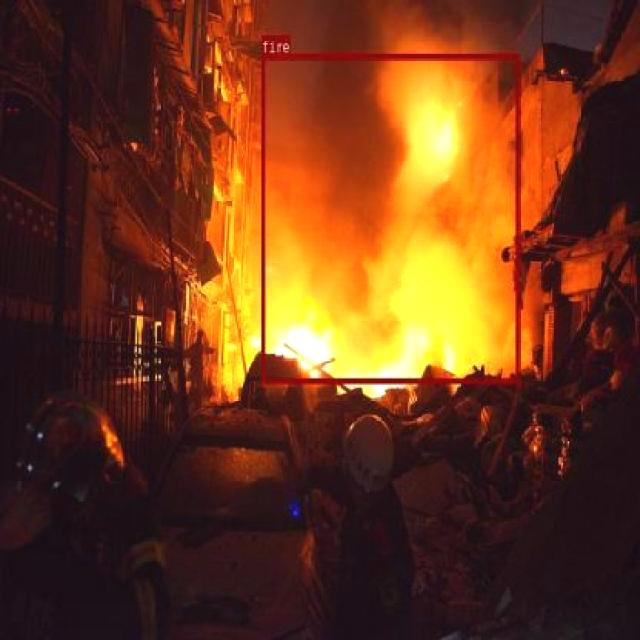fire: (260, 52, 518, 383)
